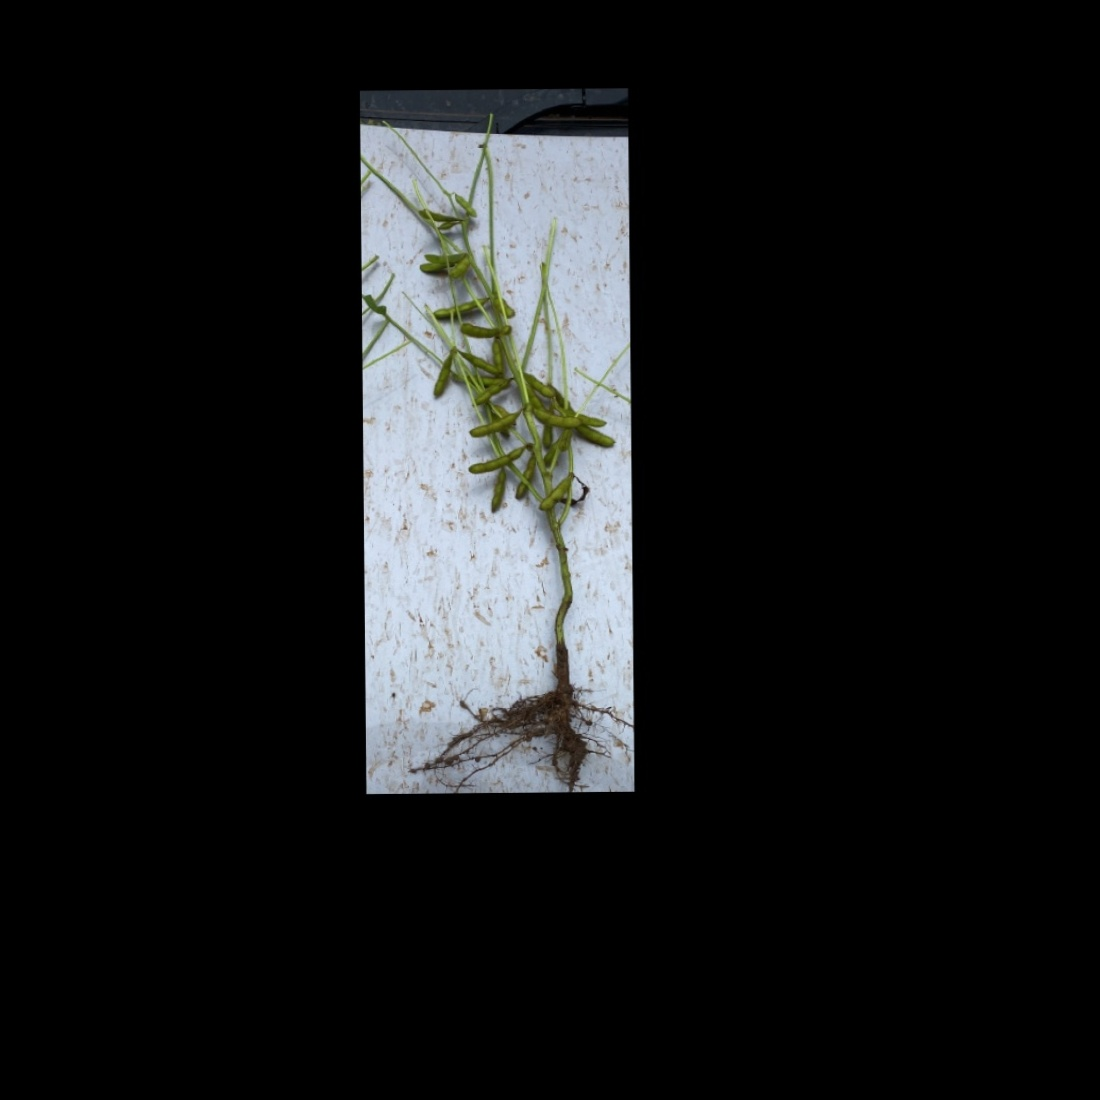pod: (467, 445, 522, 475), (537, 476, 574, 513), (432, 293, 487, 317), (469, 414, 517, 440), (454, 348, 497, 375), (527, 408, 579, 428), (486, 469, 507, 517), (514, 458, 535, 503), (430, 357, 452, 397), (521, 372, 554, 397), (456, 320, 498, 340), (578, 425, 615, 446), (454, 191, 478, 219), (523, 383, 544, 412), (492, 338, 505, 374), (540, 424, 556, 448)
soy: (390, 144, 620, 776)
